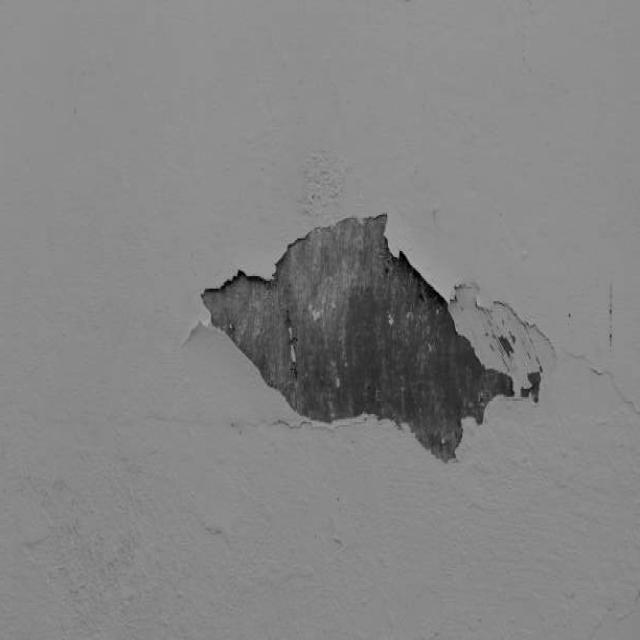peeling paint: (144, 202, 640, 478)
